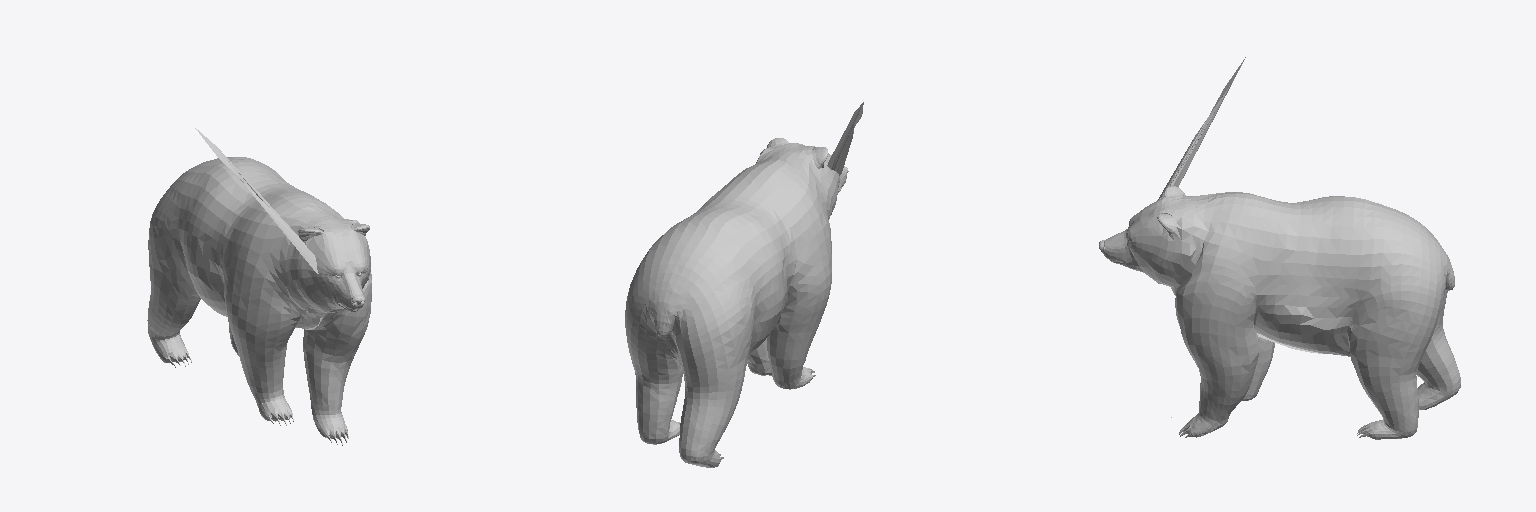
Rendered from Bear0142.obj.
3 renders of one model, left to right at view 1: azimuth 30°, elevation 25°; view 2: azimuth 150°, elevation 25°; view 3: azimuth 270°, elevation 25°, orthographic.
Parts seen in each view (by area): view 1: Object_237; view 2: Object_237; view 3: Object_237.
Part boxes in pixels (x1,y1,x2,y2): Object_237: (147,128,371,445); Object_237: (625,102,863,467); Object_237: (1099,57,1460,439).
Bounding box in the file's own units: 2.48 × 4.83 × 4.92.